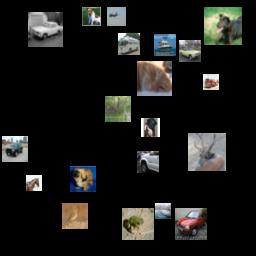airplane: (107, 7, 126, 26)
automobile: (28, 12, 63, 47), (175, 208, 207, 240), (2, 136, 28, 162), (179, 40, 201, 62), (137, 151, 159, 173)
bird: (62, 203, 88, 229)
cat: (137, 61, 172, 96)
deer: (188, 133, 226, 171), (105, 96, 131, 122)
dog: (204, 7, 242, 45), (70, 166, 96, 192), (82, 7, 101, 26), (141, 118, 160, 137)
frog: (122, 208, 154, 240)
ship: (154, 34, 176, 56), (155, 203, 171, 219)
truck: (118, 33, 140, 55), (203, 74, 219, 90)
